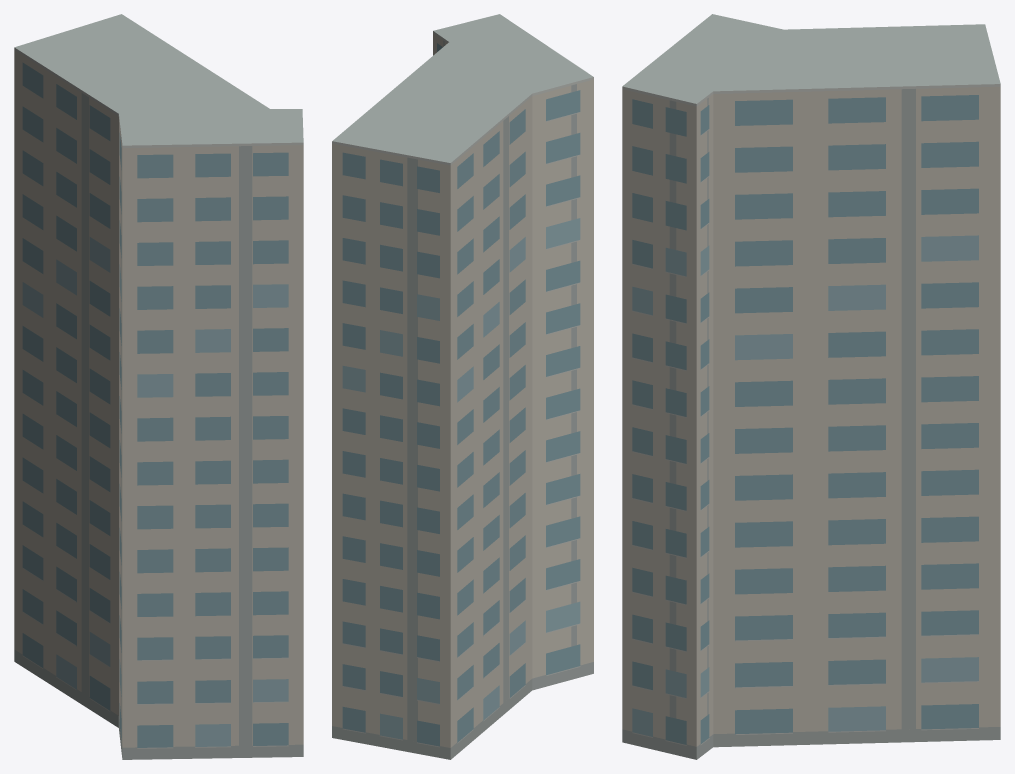
The model's file is residential-040ad0be-4a4a-4d05-bf14-d021117b0c15.glb.
The picture shows the model from 3 angles, left to right: view 1: azimuth 30°, elevation 25°; view 2: azimuth 150°, elevation 25°; view 3: azimuth 270°, elevation 25°; orthographic projection. The views are drawn at different scales.
Visible parts, largest first — view 1: residential-040ad0be-4a4a-4d05-bf14-d021117b0c15.tmp; view 2: residential-040ad0be-4a4a-4d05-bf14-d021117b0c15.tmp; view 3: residential-040ad0be-4a4a-4d05-bf14-d021117b0c15.tmp.
Boxes of the visible parts, left/top/right/bottom form: residential-040ad0be-4a4a-4d05-bf14-d021117b0c15.tmp: left=14, top=14, right=303, bottom=759; residential-040ad0be-4a4a-4d05-bf14-d021117b0c15.tmp: left=332, top=14, right=593, bottom=759; residential-040ad0be-4a4a-4d05-bf14-d021117b0c15.tmp: left=622, top=14, right=1000, bottom=759.
Bounding box in the file's own units: 17.67 × 60 × 31.39.
